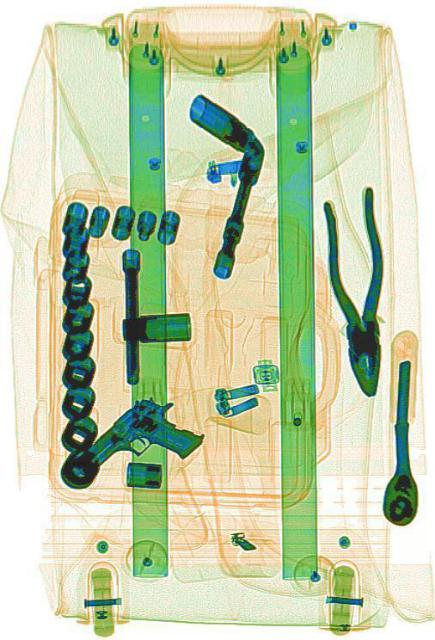Gun: (68, 368, 205, 534)
Pliers: (318, 182, 394, 400)
